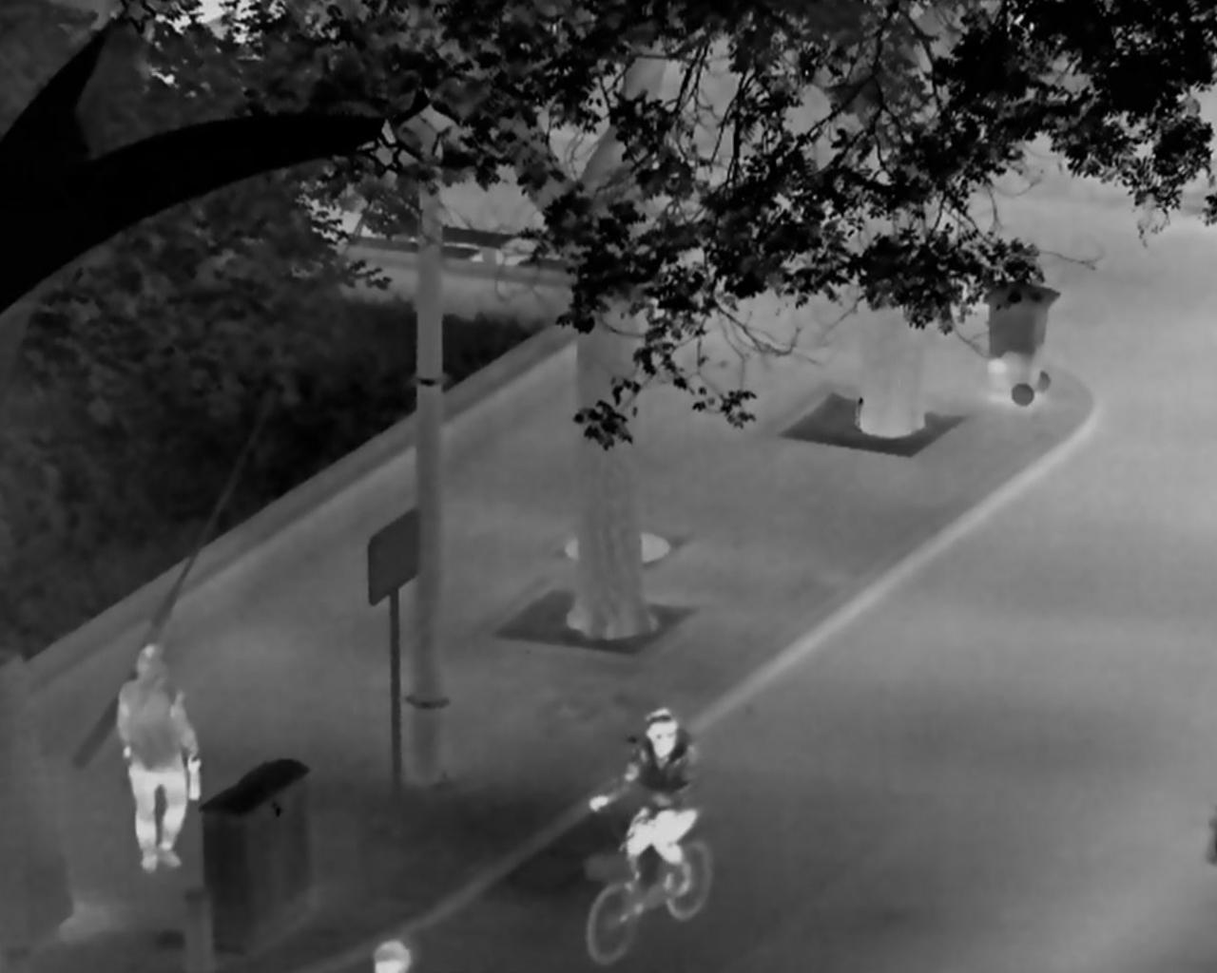person: (589, 707, 701, 895), (116, 642, 203, 872), (373, 940, 413, 973)
